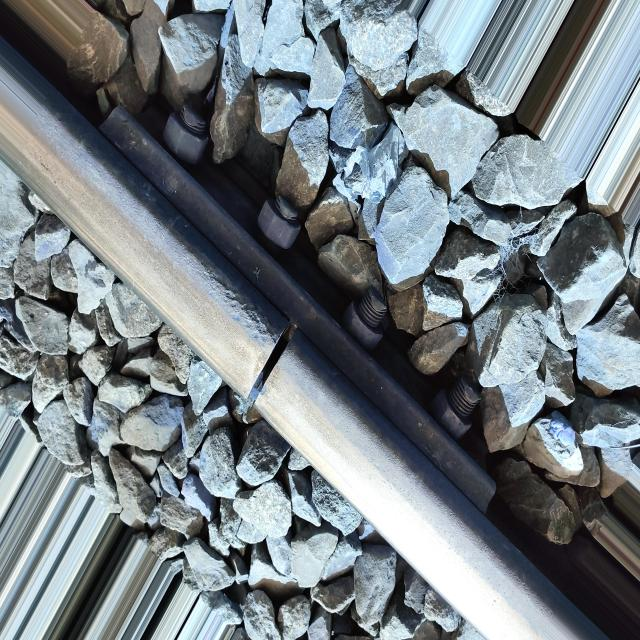crack: (231, 289, 303, 427)
